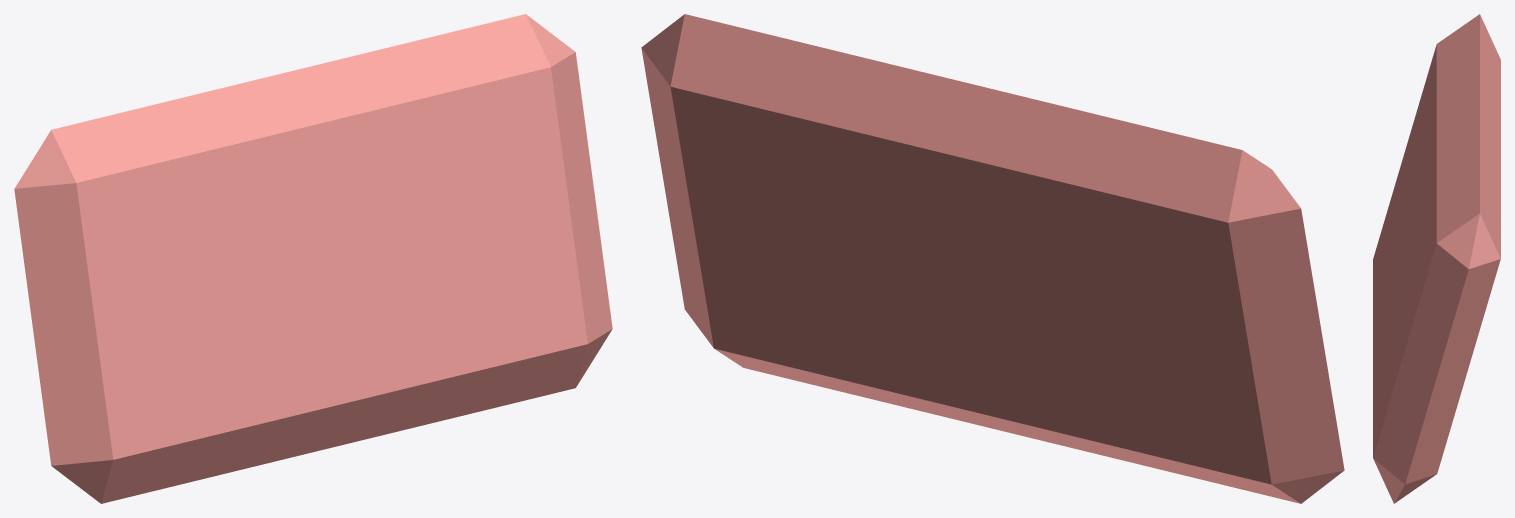
Rendered from pillowLong.gltf.
3 renders of one model, left to right at view 1: azimuth 30°, elevation 25°; view 2: azimuth 150°, elevation 25°; view 3: azimuth 270°, elevation 25°, orthographic. The views are drawn at different scales.
Parts seen in each view (by area): view 1: pillowLong(Clone); view 2: pillowLong(Clone); view 3: pillowLong(Clone).
Boxes of the visible parts, x1,y1,x2,y2 form: pillowLong(Clone): (14, 14, 612, 503); pillowLong(Clone): (641, 14, 1344, 503); pillowLong(Clone): (1373, 14, 1500, 503).
Bounding box in the file's own units: 0.3866 × 0.2222 × 0.0885.
